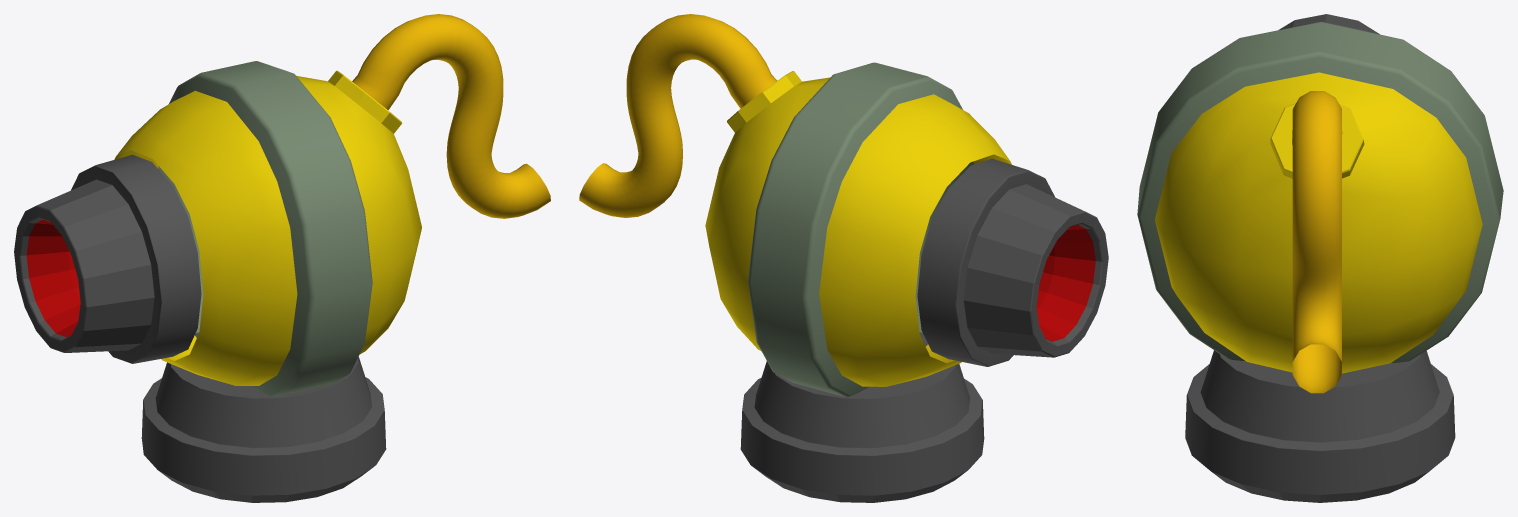
File: laser export test.fbx
3 views of the same model, side by side, from view 1: azimuth 30°, elevation 25°; view 2: azimuth 150°, elevation 25°; view 3: azimuth 270°, elevation 25° (orthographic). The views are drawn at different scales.
Parts seen in each view (by area): view 1: polySurface15, pCylinder1, polySurface16, polySurface19, polySurface17; view 2: polySurface15, pCylinder1, polySurface16, polySurface19, polySurface17; view 3: polySurface15, pCylinder1, polySurface19, polySurface16.
Boxes of the visible parts, <box> form: polySurface15: <box>114,61,421,396</box>; pCylinder1: <box>141,332,386,502</box>; polySurface16: <box>14,179,154,352</box>; polySurface19: <box>352,14,550,218</box>; polySurface17: <box>71,154,201,363</box>; polySurface15: <box>705,62,1011,396</box>; pCylinder1: <box>740,332,984,502</box>; polySurface16: <box>963,184,1108,357</box>; polySurface19: <box>579,14,777,217</box>; polySurface17: <box>917,158,1054,366</box>; polySurface15: <box>1137,21,1503,373</box>; pCylinder1: <box>1185,350,1455,502</box>; polySurface19: <box>1292,91,1342,393</box>; polySurface16: <box>1278,14,1379,34</box>.
Size of the model in its own units: 17.6 by 13.99 by 10.32.
